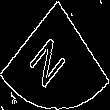N_NE: (31, 23, 79, 87)
